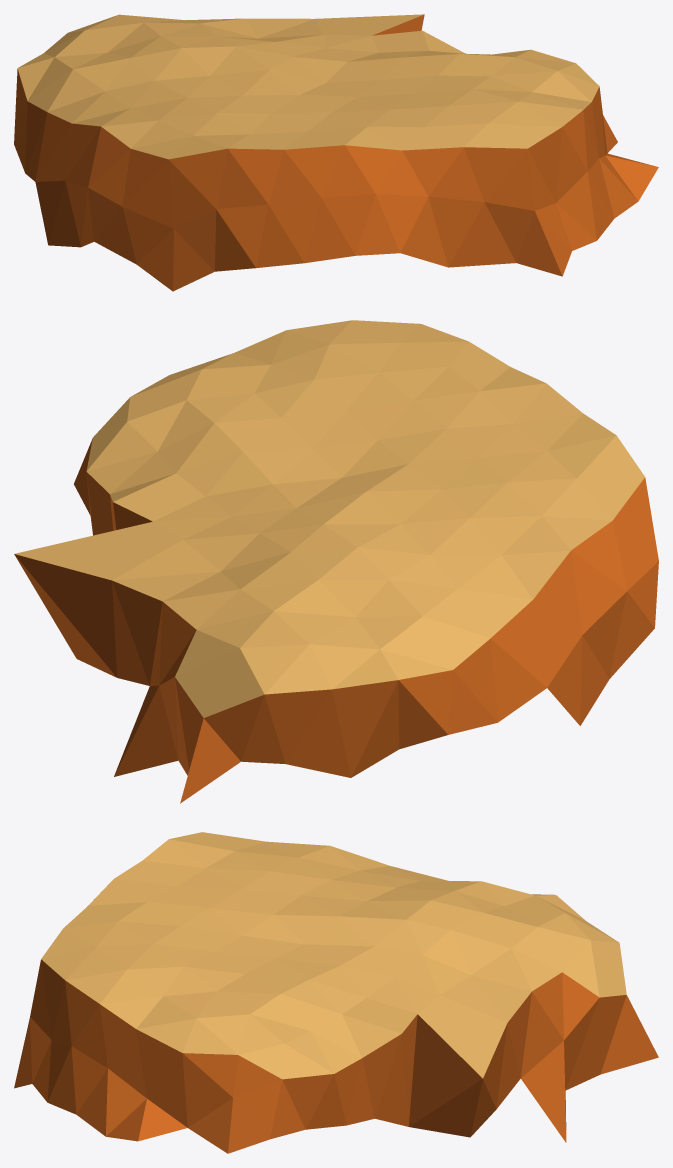
File: big_desert_relief_1.fbx
The picture shows the model from 3 angles, top to bottom: view 1: azimuth 30°, elevation 25°; view 2: azimuth 150°, elevation 25°; view 3: azimuth 270°, elevation 25°; orthographic projection. The views are drawn at different scales.
Parts seen in each view (by area): view 1: Icosphere.297; view 2: Icosphere.297; view 3: Icosphere.297.
Part boxes in pixels (x1,y1,x2,y2): Icosphere.297: (14,14,658,291); Icosphere.297: (14,320,658,803); Icosphere.297: (14,832,658,1153).
Size of the model in its own units: 1810 by 699 by 2063.
